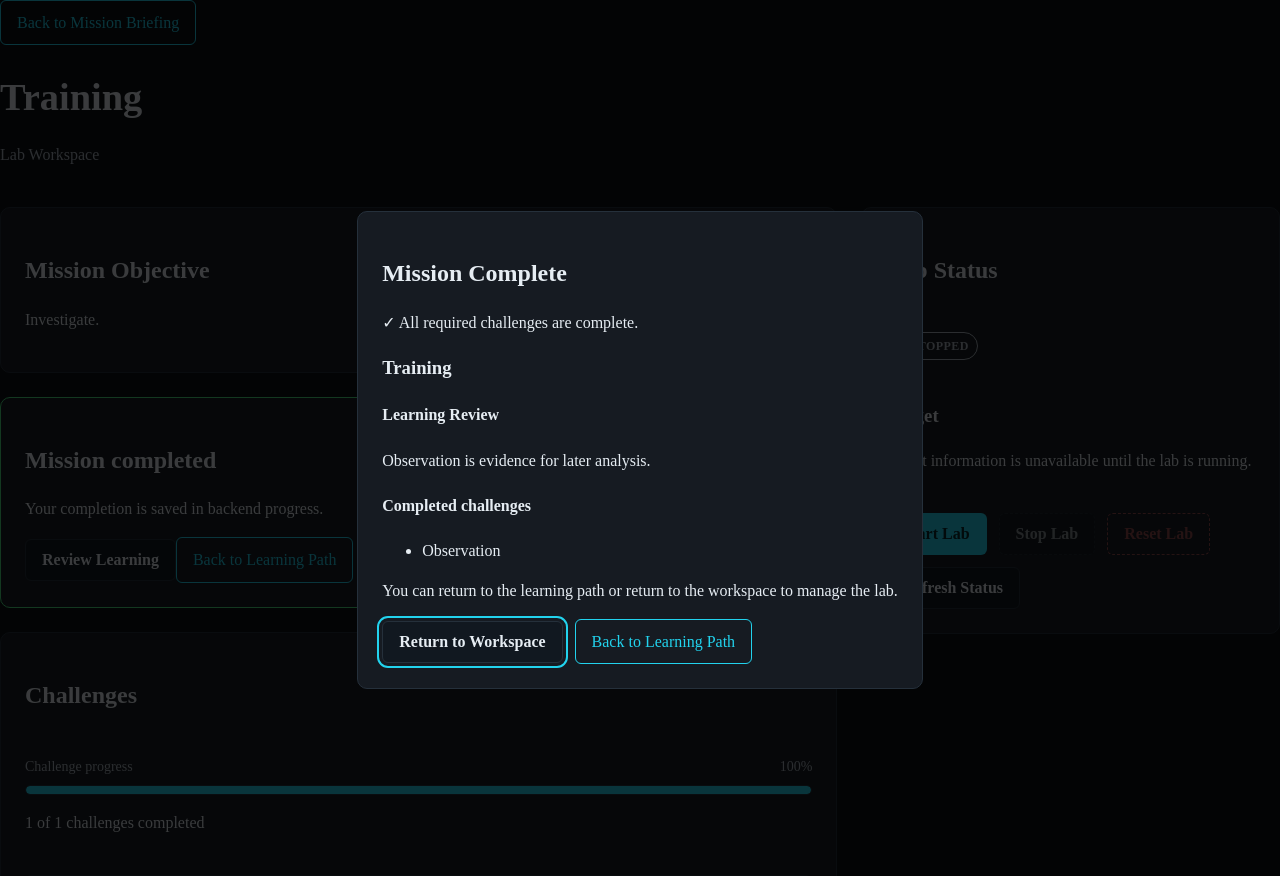
Test case: shows backend learning content on completion and reopens it from the workspace
Expected: the text "Observation is evidence for later analysis." is shown, [382, 452, 651, 469]
Click the button "Return to Workspace".
click(472, 642)  # box [382, 621, 563, 663]
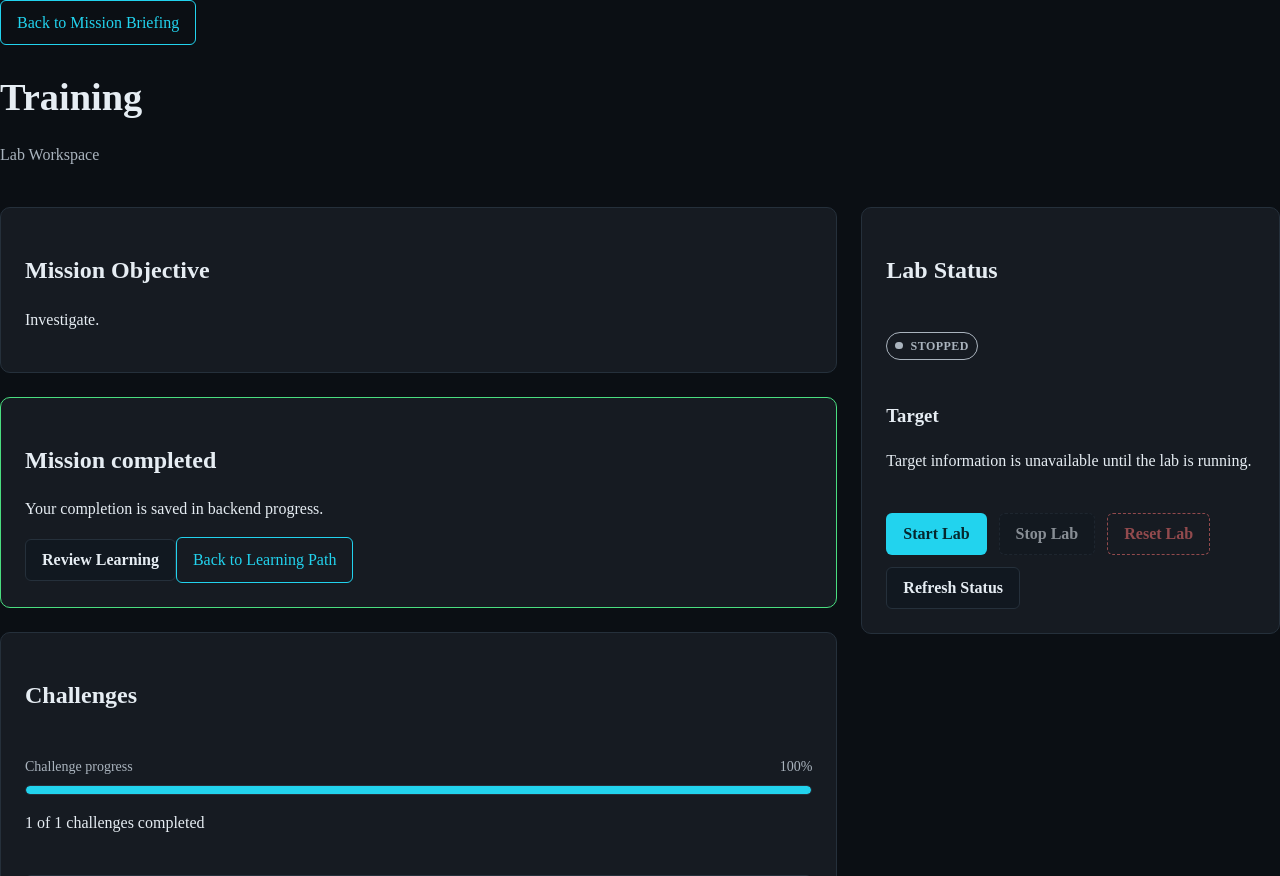
Now the text "Observation is evidence for later analysis." is gone
Click the button "Review Learning".
click(100, 560)  # box [25, 539, 176, 581]
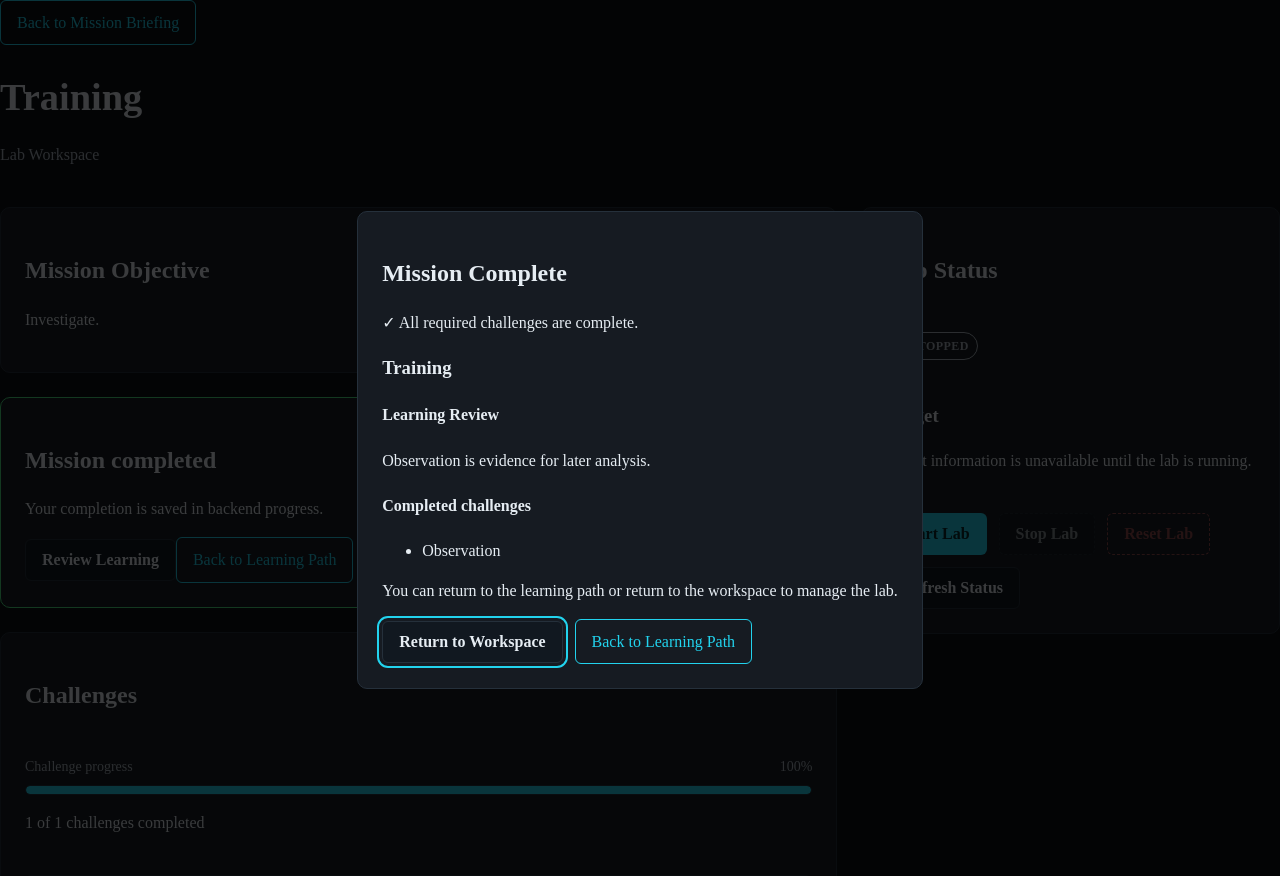
Now the text "Observation is evidence for later analysis." is shown, box [382, 452, 651, 469]
